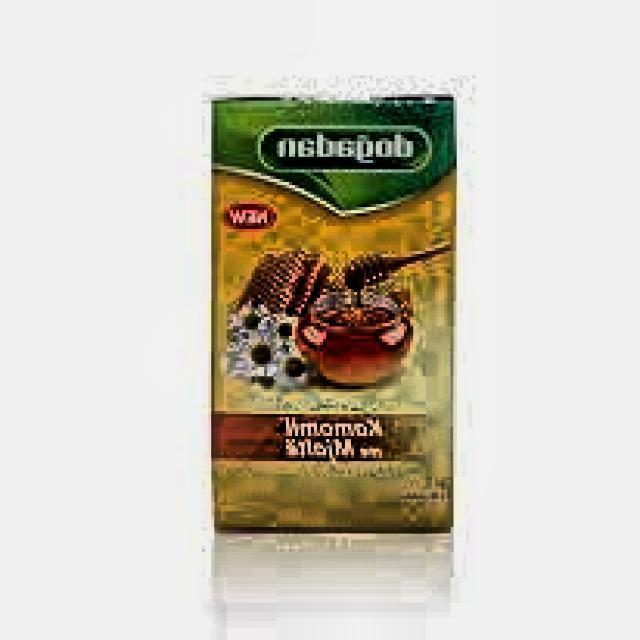cardboard: (212, 90, 459, 534)
